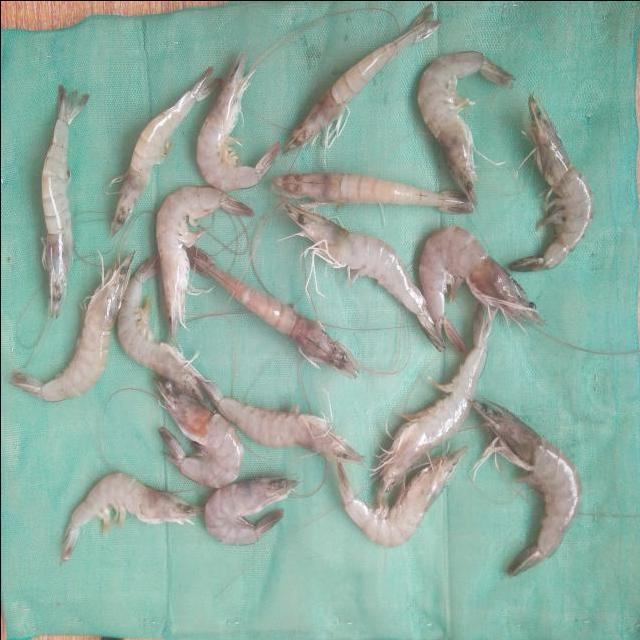shrimp: (283, 198, 443, 351), (374, 303, 493, 505), (282, 3, 440, 152), (186, 246, 360, 378), (472, 401, 582, 577), (109, 65, 220, 234), (7, 252, 132, 401), (418, 225, 545, 354), (417, 50, 515, 205), (509, 94, 594, 271), (155, 185, 252, 340), (194, 375, 363, 463), (336, 447, 467, 548), (59, 473, 202, 564), (116, 254, 203, 401), (195, 51, 280, 190), (40, 84, 87, 318), (153, 378, 242, 489), (270, 171, 473, 213), (204, 476, 296, 545)
